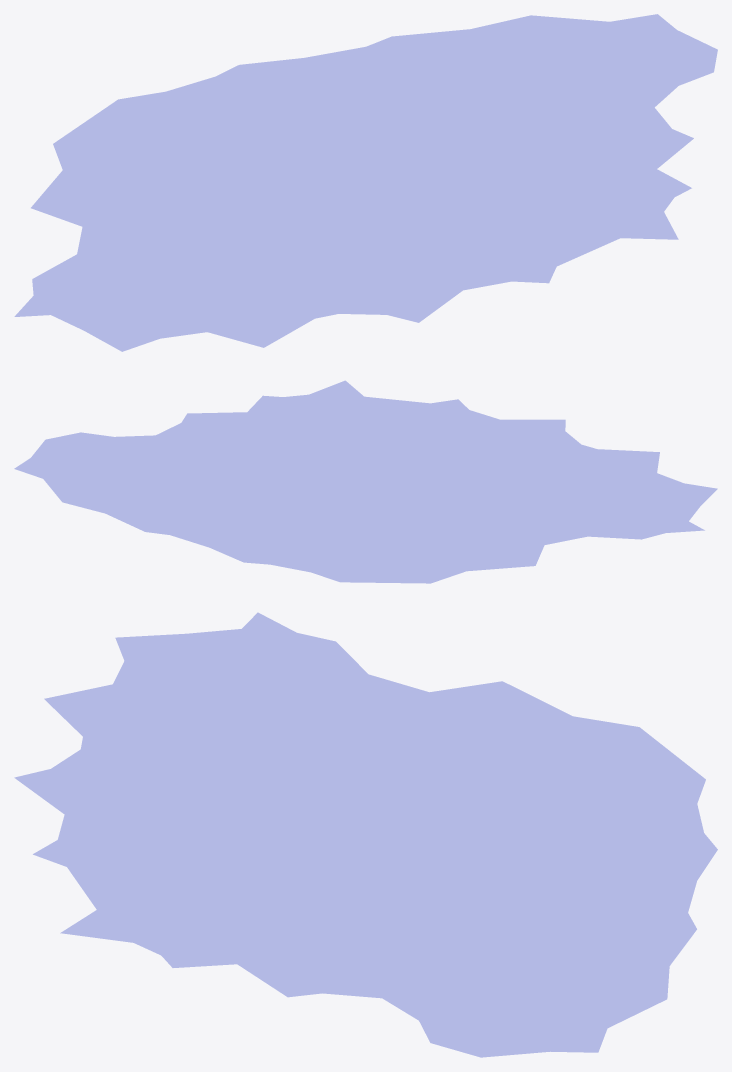
Rendered from lake.dae.
3 renders of one model, top to bottom at view 1: azimuth 30°, elevation 25°; view 2: azimuth 150°, elevation 25°; view 3: azimuth 270°, elevation 25°, orthographic. The views are drawn at different scales.
Parts seen in each view (by area): view 1: Plane; view 2: Plane; view 3: Plane.
Boxes of the visible parts, x1,y1,x2,y2 form: Plane: [15, 14, 717, 351]; Plane: [15, 381, 716, 583]; Plane: [15, 613, 717, 1057].
Bounding box in the file's own units: 3.28 × 0 × 2.19.
